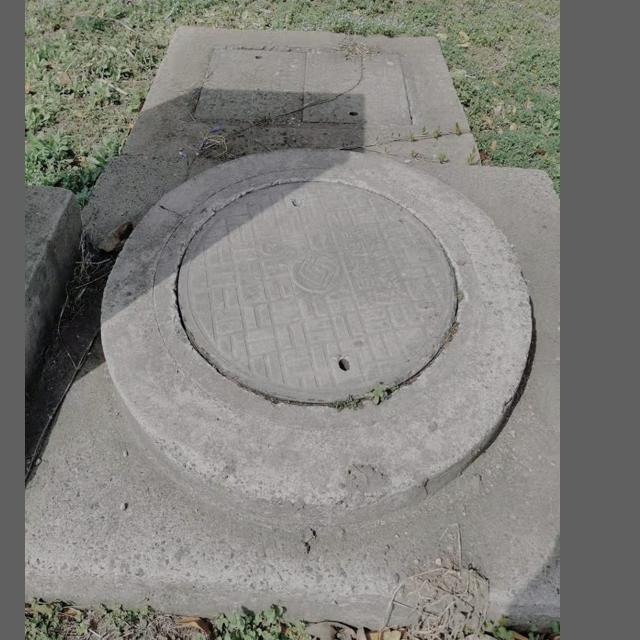good: (153, 168, 477, 418), (189, 41, 419, 128)
